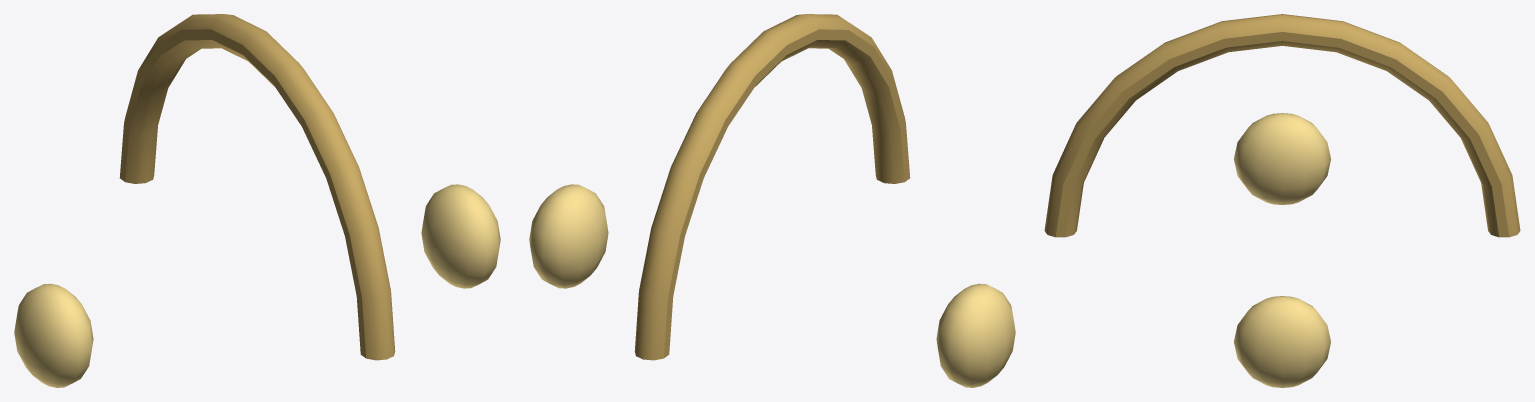
File: Acc_Headphones.fbx
3 renders of one model, left to right at view 1: azimuth 30°, elevation 25°; view 2: azimuth 150°, elevation 25°; view 3: azimuth 270°, elevation 25°, orthographic. The views are drawn at different scales.
Parts seen in each view (by area): view 1: Headset_Band, Headset_Ear, Headset_Ear.001; view 2: Headset_Band, Headset_Ear, Headset_Ear.001; view 3: Headset_Band, Headset_Ear.001, Headset_Ear.
Boxes of the visible parts, x1=… form: Headset_Band: x1=119, y1=14, x2=395, y2=360; Headset_Ear: x1=421, y1=184, x2=500, y2=288; Headset_Ear.001: x1=14, y1=283, x2=93, y2=387; Headset_Band: x1=634, y1=14, x2=910, y2=360; Headset_Ear: x1=529, y1=184, x2=608, y2=288; Headset_Ear.001: x1=936, y1=283, x2=1015, y2=387; Headset_Band: x1=1044, y1=14, x2=1520, y2=237; Headset_Ear.001: x1=1234, y1=113, x2=1330, y2=204; Headset_Ear: x1=1234, y1=296, x2=1330, y2=387.
Bounding box in the file's own units: 92 × 57 × 88.
